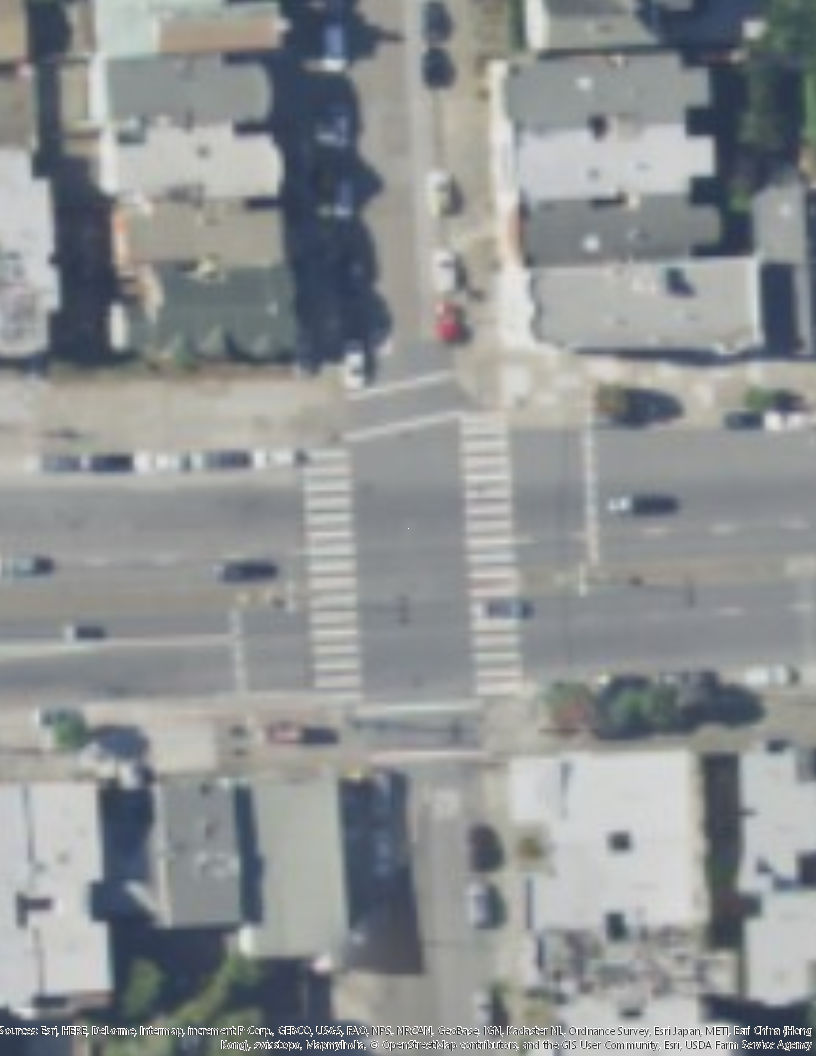zebracross: (459, 416, 527, 691), (298, 445, 363, 696)
